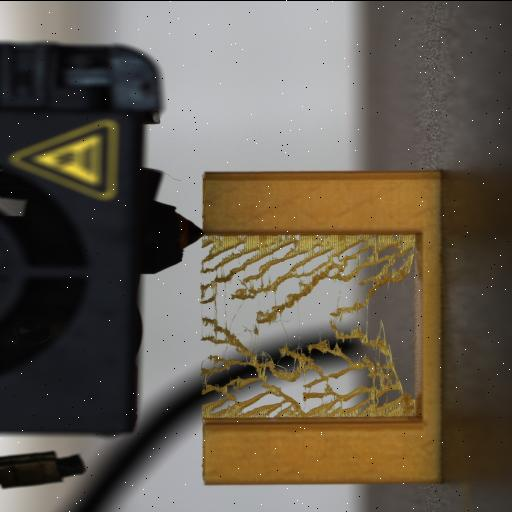stringing: (198, 234, 417, 420)
